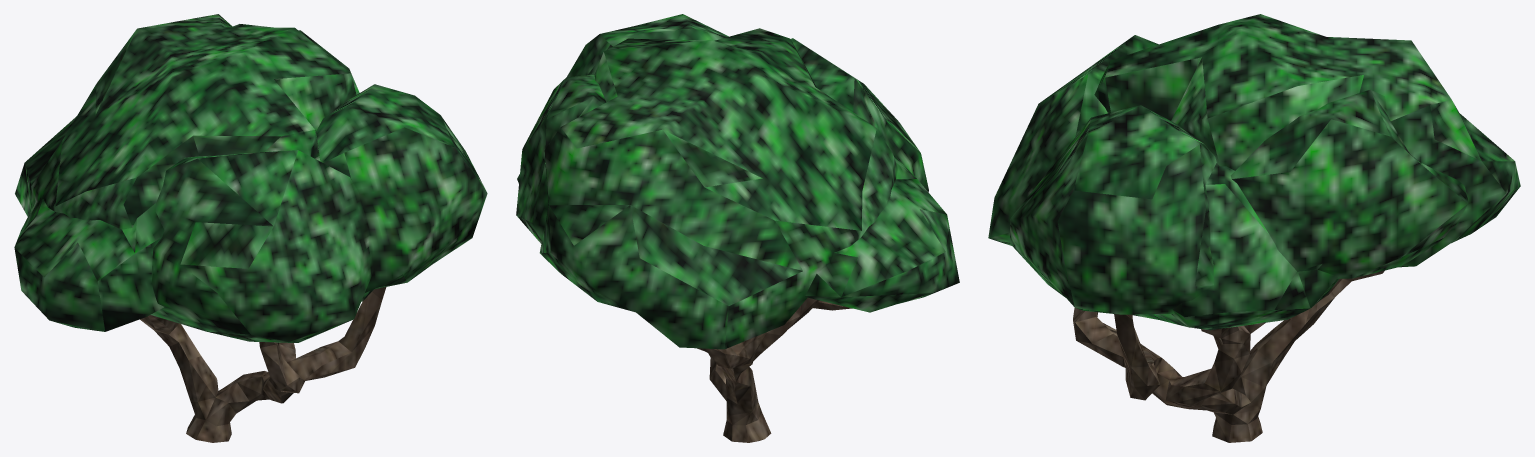
Rendered from Tree13.fbx.
3 renders of one model, left to right at view 1: azimuth 30°, elevation 25°; view 2: azimuth 150°, elevation 25°; view 3: azimuth 270°, elevation 25°, orthographic. The views are drawn at different scales.
Visible parts, largest first — view 1: trunk_013; view 2: trunk_013; view 3: trunk_013.
Boxes of the visible parts, x1,y1,x2,y2 form: trunk_013: (14, 14, 487, 442); trunk_013: (516, 14, 959, 442); trunk_013: (988, 14, 1520, 442).
Size of the model in its own units: 9.39 by 8.37 by 9.57.
